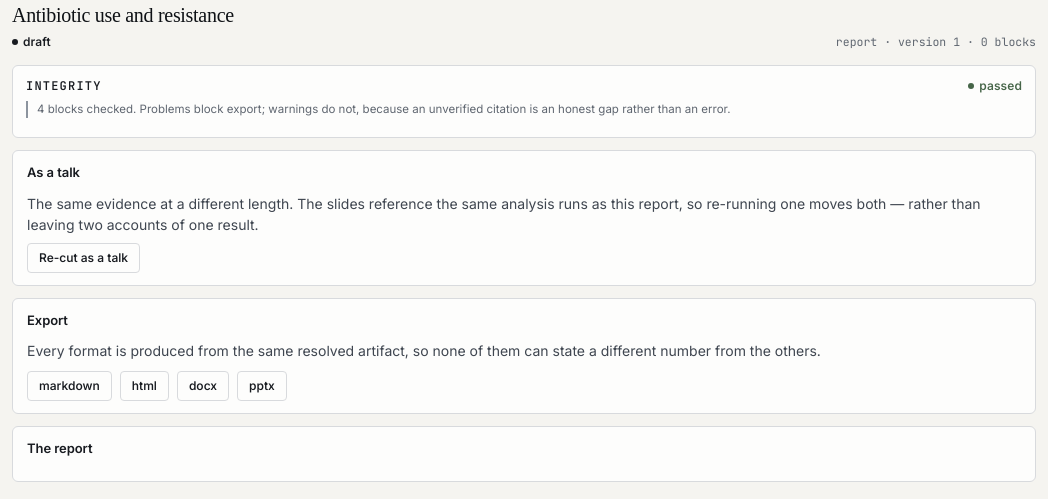
Test case: re-cutting a report › does not offer to cut twice at once
Click the button "Re-cut as a talk": point(84, 258) [27,243,140,273]
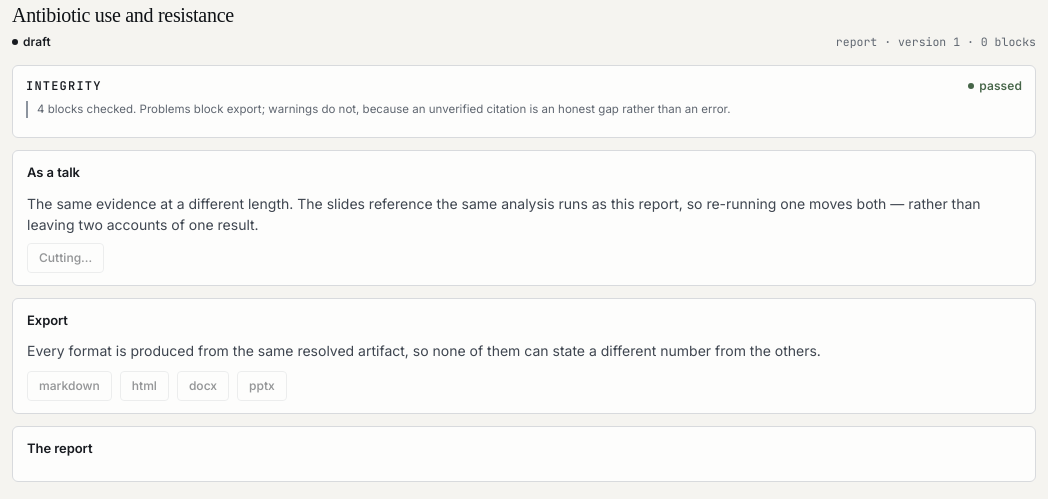
Now the button "Cutting…" is disabled, box [27,243,104,273]
